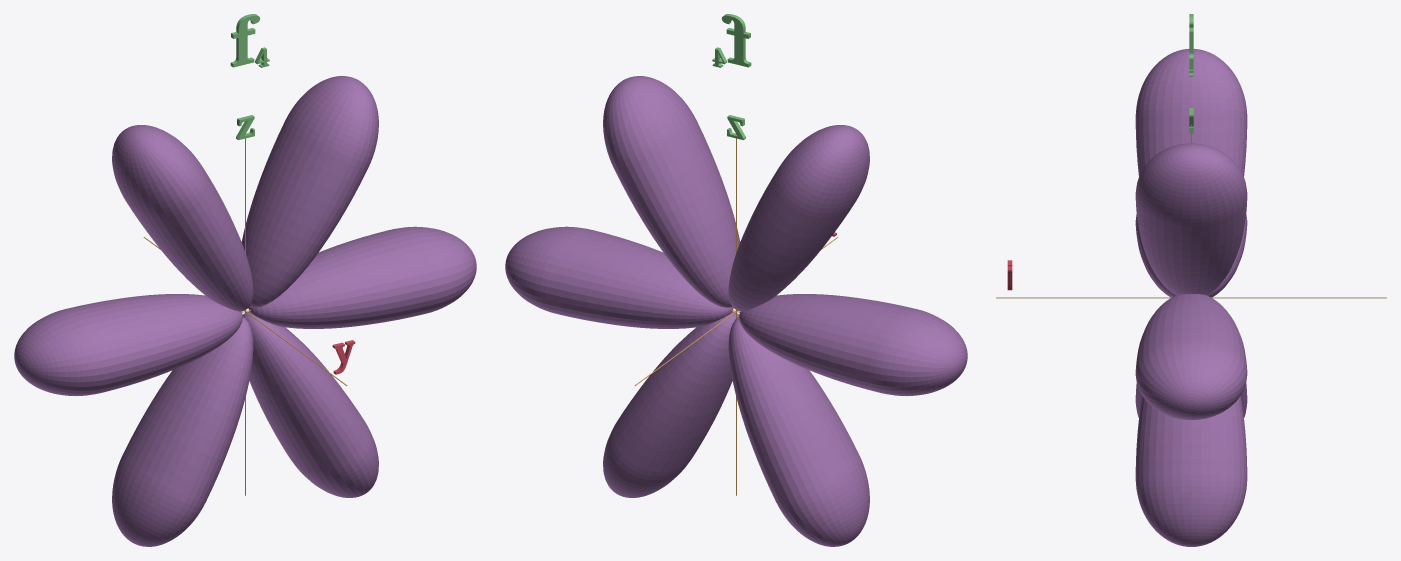
The model's file is f4 orbital.glb.
The picture shows the model from 3 angles, left to right: view 1: azimuth 30°, elevation 25°; view 2: azimuth 150°, elevation 25°; view 3: azimuth 270°, elevation 25°; orthographic projection. The views are drawn at different scales.
Visible parts, largest first — view 1: Mesh_Mesh_head_geo.001_lambert2SG.001; view 2: Mesh_Mesh_head_geo.001_lambert2SG.001; view 3: Mesh_Mesh_head_geo.001_lambert2SG.001.
Part boxes in pixels (x1,y1,x2,y2): Mesh_Mesh_head_geo.001_lambert2SG.001: [14, 14, 476, 546]; Mesh_Mesh_head_geo.001_lambert2SG.001: [505, 14, 967, 546]; Mesh_Mesh_head_geo.001_lambert2SG.001: [996, 14, 1386, 546].
Size of the model in its own units: 108 by 115 by 84.
